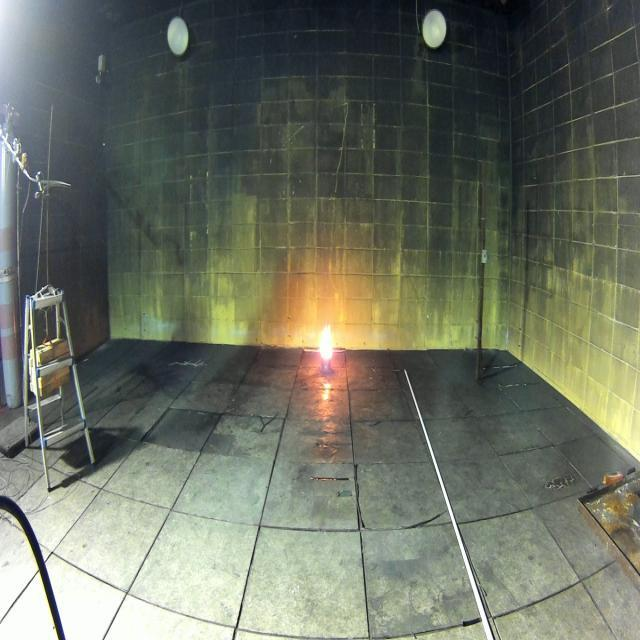Fire: (320, 324, 332, 360)
